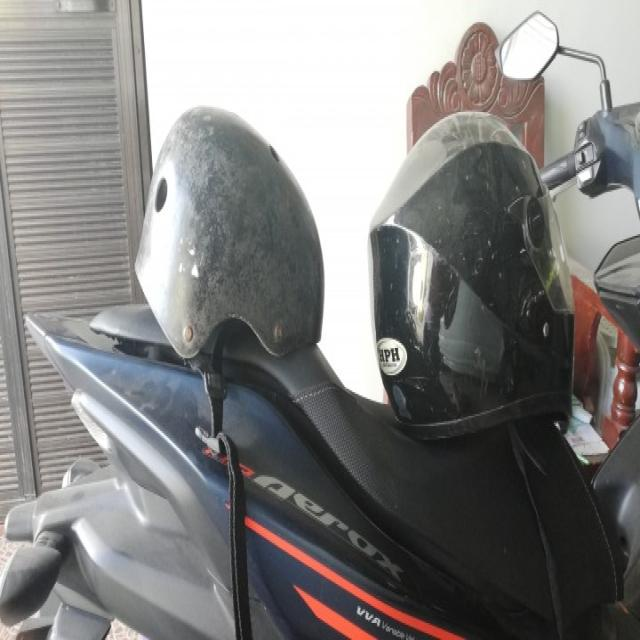helmet: (364, 104, 576, 448)
illegal_helmet: (128, 96, 330, 640)
